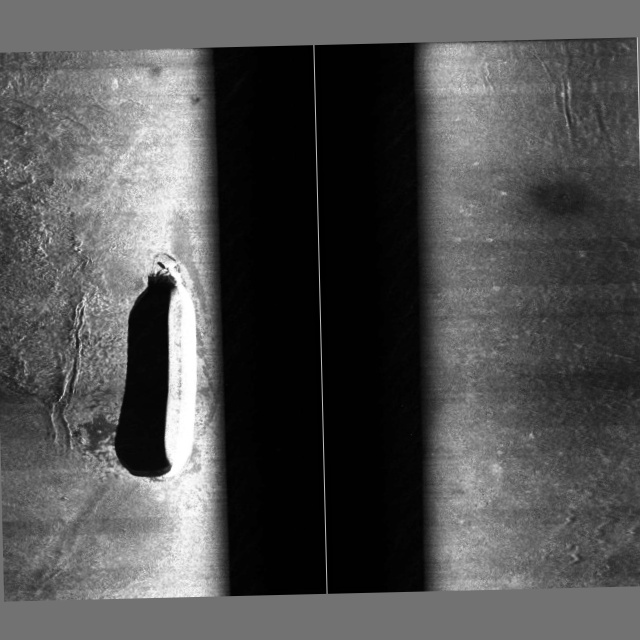Shipwreck: (146, 260, 200, 481)
